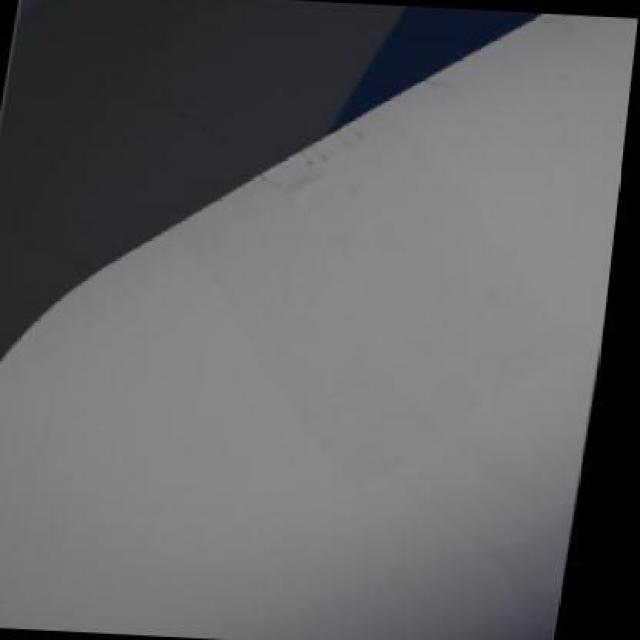Crack: (291, 140, 337, 169), (330, 121, 376, 148), (248, 170, 292, 193), (419, 72, 463, 91)
